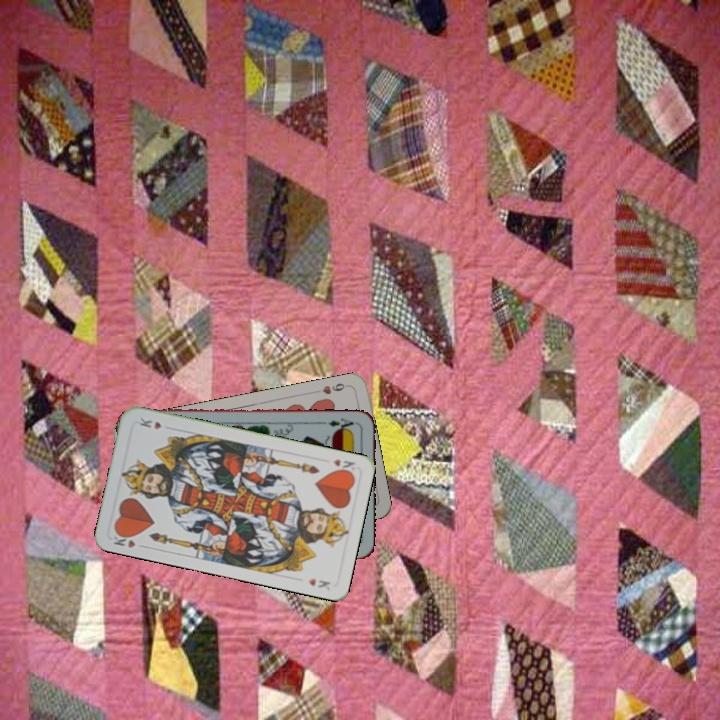EA: (324, 414, 360, 433)
H9: (311, 379, 352, 397)
HK: (108, 528, 149, 551), (329, 455, 358, 476)
